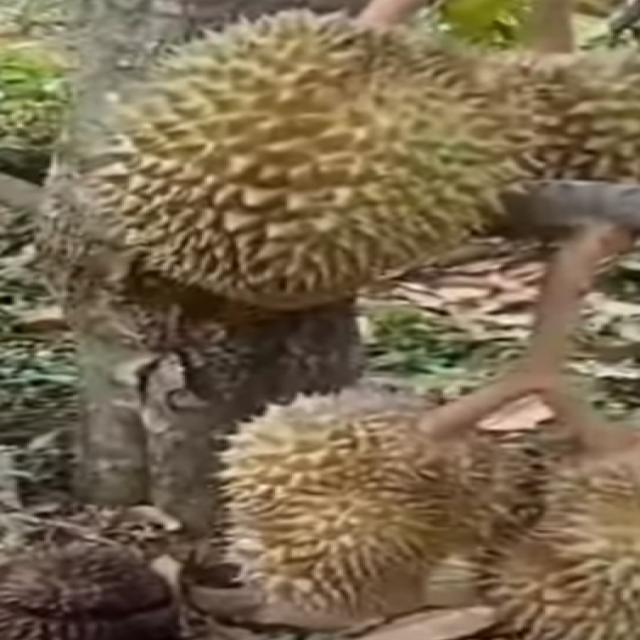defective: (0, 549, 182, 640)
mature: (82, 9, 538, 309), (221, 383, 530, 618)
